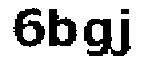6: (11, 3, 47, 49)
b: (48, 4, 79, 52)
g: (78, 12, 114, 56)
j: (113, 4, 140, 60)
